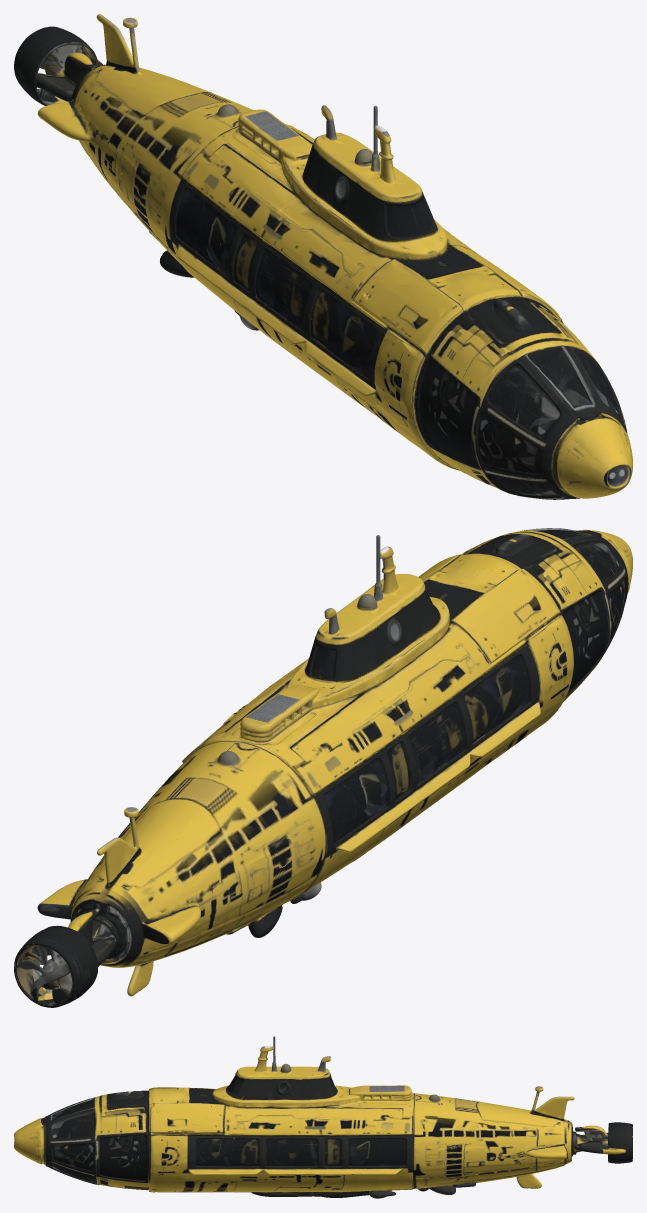
File: deepfin-explorer.glb
3 renders of one model, top to bottom at view 1: azimuth 30°, elevation 25°; view 2: azimuth 150°, elevation 25°; view 3: azimuth 270°, elevation 25°, orthographic. The views are drawn at different scales.
Parts seen in each view (by area): view 1: deepfin-explorer; view 2: deepfin-explorer; view 3: deepfin-explorer.
Boxes of the visible parts, left/top/right/bottom form: deepfin-explorer: left=14, top=14, right=632, bottom=499; deepfin-explorer: left=14, top=528, right=632, bottom=1007; deepfin-explorer: left=14, top=1036, right=632, bottom=1198.
Size of the model in its own units: 1.76 by 2.86 by 10.
Materials: 1 (1 with a texture image).
